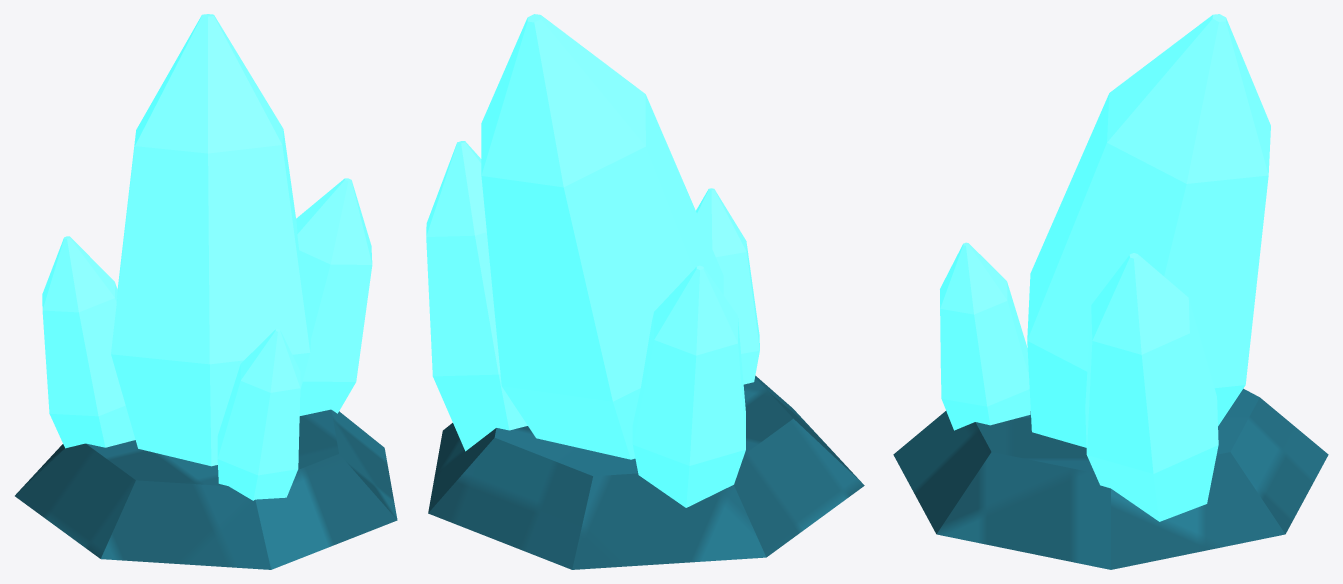
File: SM_Prop_LiftStone_HQ.glb
The picture shows the model from 3 angles, left to right: view 1: azimuth 30°, elevation 25°; view 2: azimuth 150°, elevation 25°; view 3: azimuth 270°, elevation 25°; orthographic projection. The views are drawn at different scales.
Parts seen in each view (by area): view 1: SM_Prop_LiftStone_HQ; view 2: SM_Prop_LiftStone_HQ; view 3: SM_Prop_LiftStone_HQ.
Part boxes in pixels (x1,y1,x2,y2): SM_Prop_LiftStone_HQ: (15, 14, 397, 569); SM_Prop_LiftStone_HQ: (426, 14, 864, 569); SM_Prop_LiftStone_HQ: (893, 14, 1328, 569).
Bounding box in the file's own units: 0.7235 × 0.9372 × 0.7409.
1 material, 1 textured.
